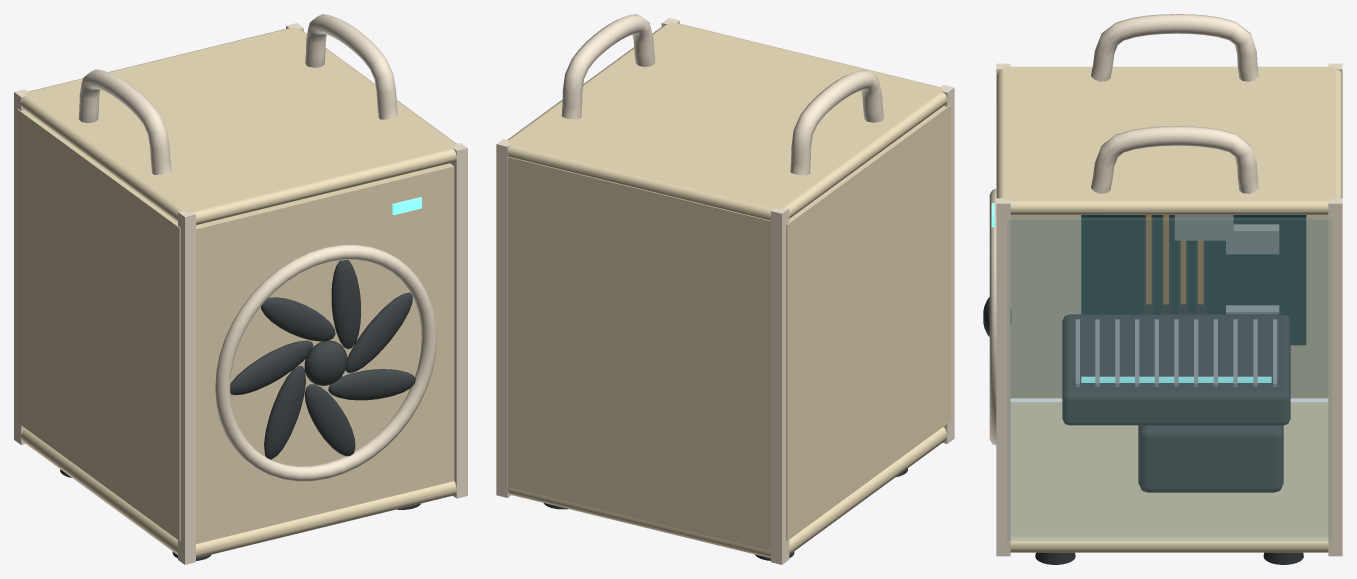
Rendered from pc_case_carry_cube-437c918aa3f1.glb.
3 renders of one model, left to right at view 1: azimuth 30°, elevation 25°; view 2: azimuth 150°, elevation 25°; view 3: azimuth 270°, elevation 25°, orthographic.
Parts seen in each view (by area): view 1: surface_ivory, surface_chalk, surface_graphite; view 2: surface_ivory, surface_chalk; view 3: surface_Optical_smoke, surface_ivory, surface_graphite, surface_chalk, surface_deep, surface_steel, surface_brass, surface_cyan, surface_rubber.
Boxes of the visible parts, x1=… form: surface_ivory: x1=17, y1=27, x2=457, y2=558; surface_chalk: x1=14, y1=14, x2=467, y2=564; surface_graphite: x1=230, y1=260, x2=415, y2=459; surface_ivory: x1=507, y1=22, x2=950, y2=558; surface_chalk: x1=496, y1=14, x2=954, y2=564; surface_Optical_smoke: x1=1007, y1=218, x2=1331, y2=540; surface_ivory: x1=996, y1=66, x2=1342, y2=552; surface_graphite: x1=983, y1=215, x2=1290, y2=492; surface_chalk: x1=989, y1=14, x2=1342, y2=556; surface_deep: x1=1081, y1=215, x2=1306, y2=345; surface_steel: x1=1075, y1=215, x2=1279, y2=386; surface_brass: x1=1146, y1=215, x2=1203, y2=304; surface_cyan: x1=991, y1=203, x2=1271, y2=382; surface_rubber: x1=1035, y1=552, x2=1303, y2=564.
Size of the model in its own units: 0.2316 by 0.332 by 0.2495.
